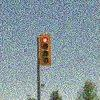traffic lights: (38, 34, 50, 68)
